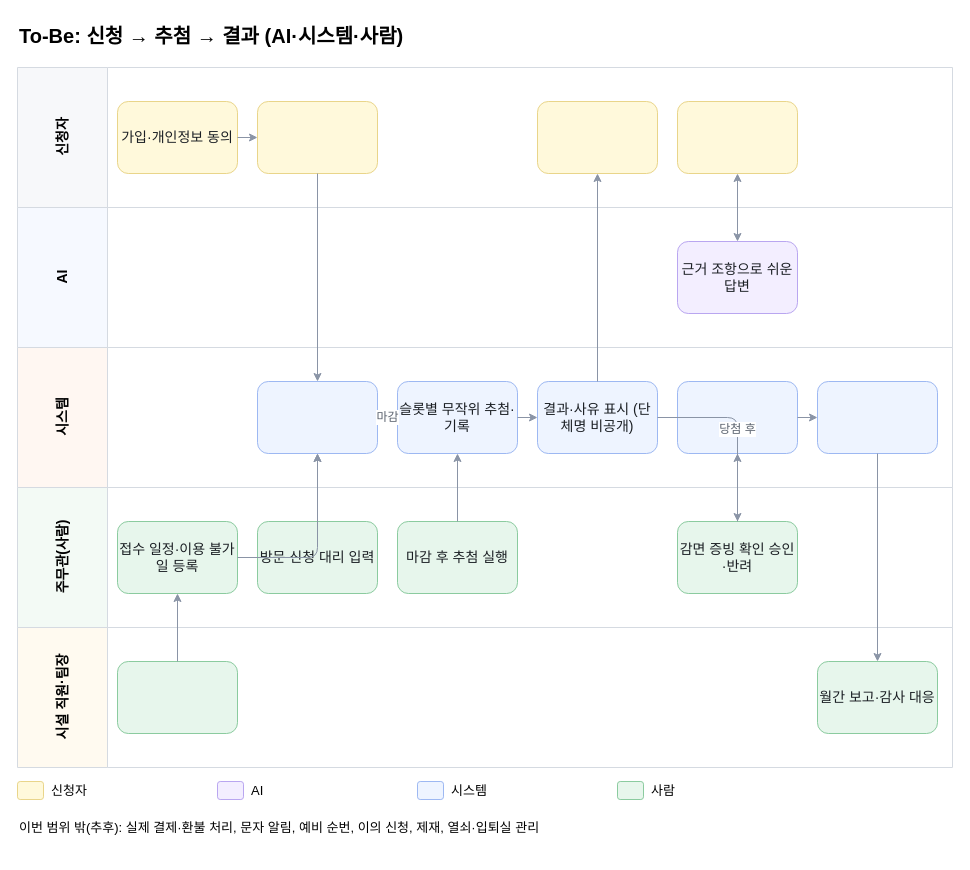
Some shapes in this 970 by 870 pixel diagram are drawn without their labels. The shapes that lost their labels are listed below. From the top down, each one's box as (x1, y1, x2, y2) in pixels, then its label:
(256, 100, 378, 174): 슬롯 선택 신청서·증빙
(536, 100, 658, 174): 결과·사유·요금 확인
(676, 100, 798, 174): 규정·요금 질문
(256, 380, 378, 454): 겹침·휴관 검증 요금 미리보기
(676, 380, 798, 454): 승인된 감면 반영 요금 확정
(816, 380, 938, 454): 이용률·수입 집계
(116, 660, 238, 734): 공사·행사·점검 일정 전달
